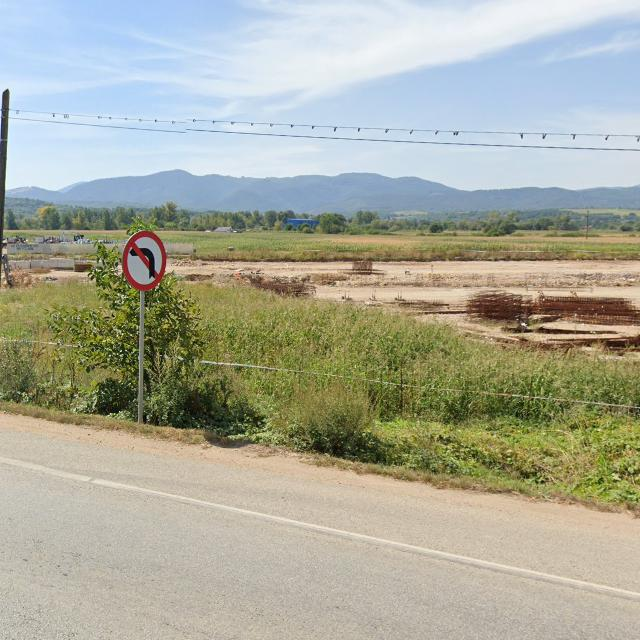forb_left: (120, 230, 166, 290)
